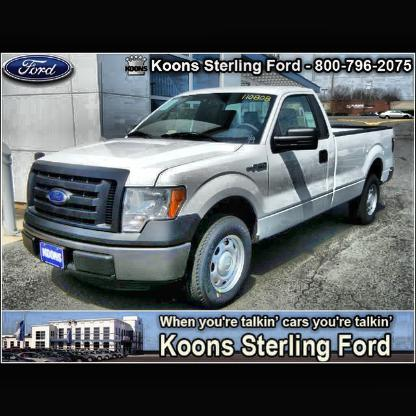Ford F-150 Regular Cab 2012: (22, 86, 396, 310)
